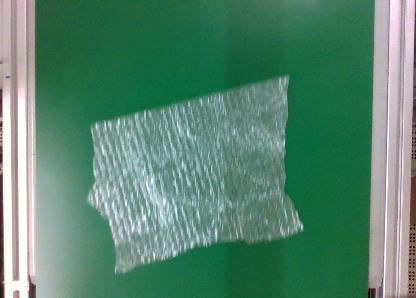Others: (87, 74, 304, 276)
